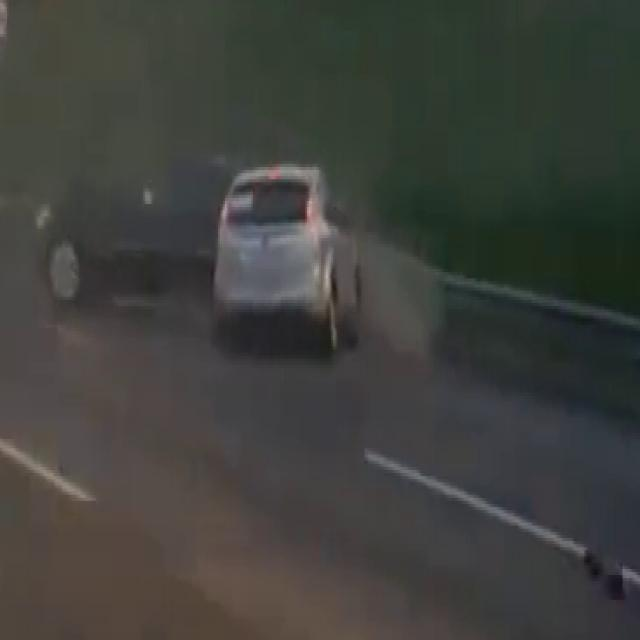accident: (40, 132, 362, 358)
